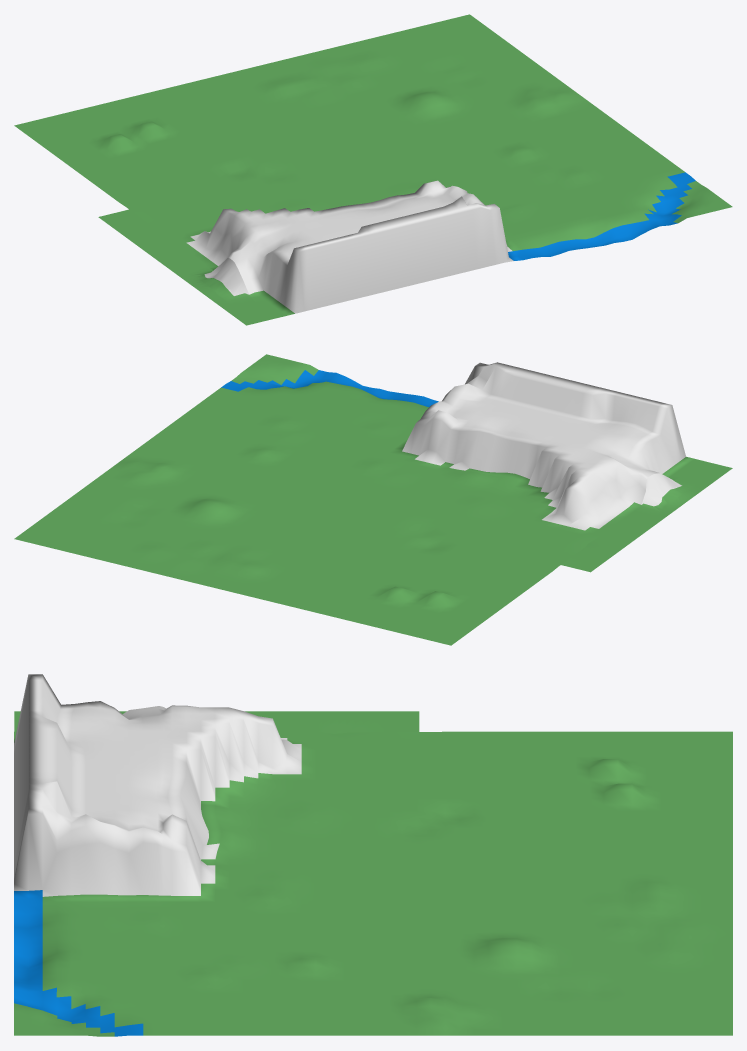
3 views of the same model, one above another, from view 1: azimuth 30°, elevation 25°; view 2: azimuth 150°, elevation 25°; view 3: azimuth 270°, elevation 25° (orthographic). The views are drawn at different scales.
Visible parts, largest first — view 1: pPlane9; view 2: pPlane9; view 3: pPlane9.
Part boxes in pixels (x1=…): pPlane9: x1=14, y1=14, x2=732, y2=325; pPlane9: x1=14, y1=354, x2=732, y2=645; pPlane9: x1=14, y1=674, x2=732, y2=1036.
Bounding box in the file's own units: 768 × 109 × 719.
